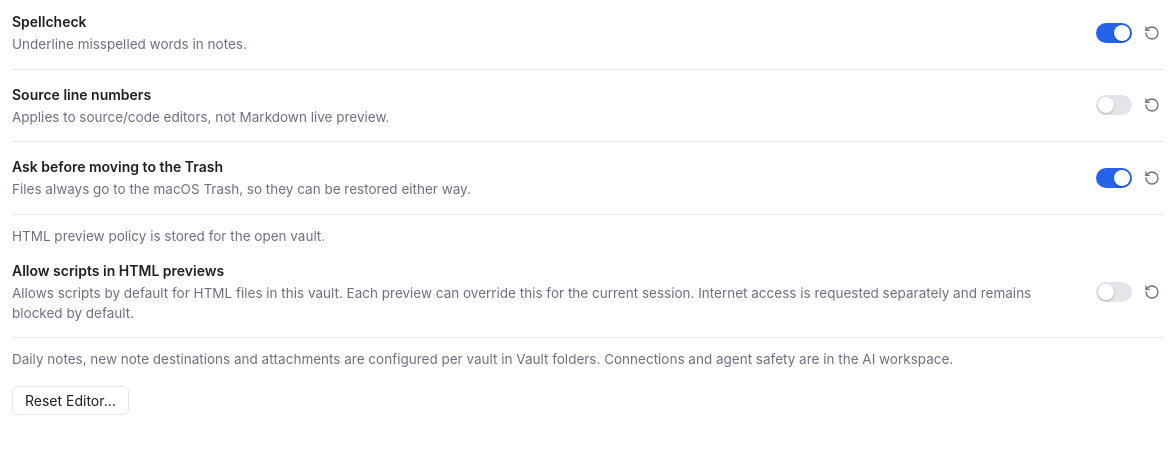
Test: HTML policy disables both actions until the vault write completes
Click the switch named "Allow scripts in HTML previews": (1114, 292) [1096,282,1132,302]
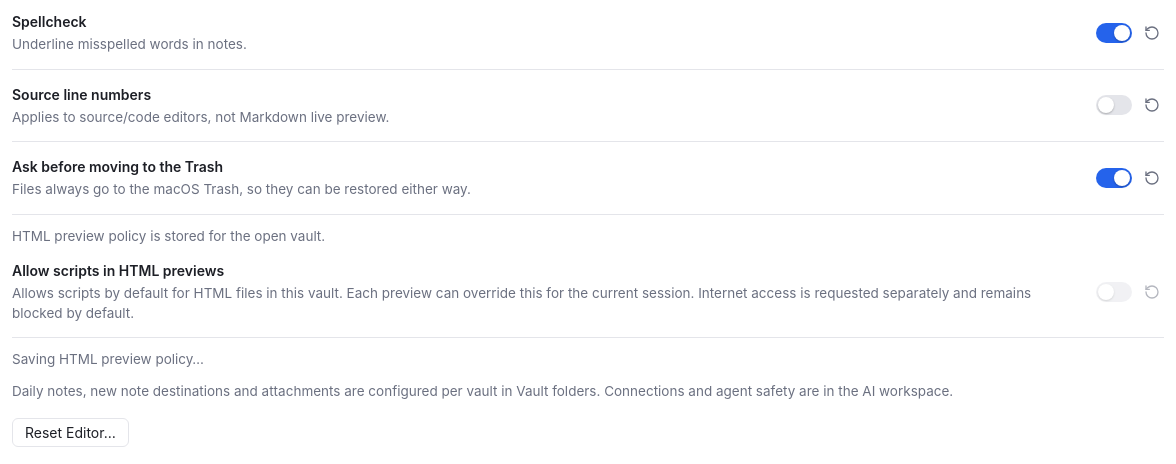
Result: the switch named "Allow scripts in HTML previews" is disabled at [1096,282,1132,302]
Result: the button named "Reset Allow scripts in HTML previews" is disabled
Result: the message reads "Saving HTML preview policy…" at [12,351,204,367]
Click the button named "Reset Allow scripts in HTML previews": (1152, 292) [1140,280,1164,304]
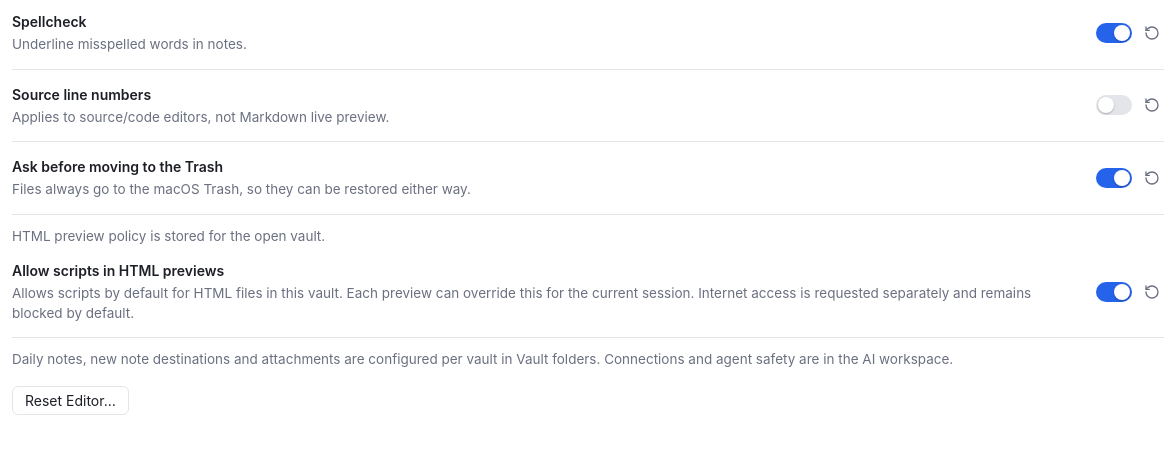
Result: the switch named "Allow scripts in HTML previews" is enabled at [1096,282,1132,302]
Result: the button named "Reset Allow scripts in HTML previews" is enabled at [1140,280,1164,304]
